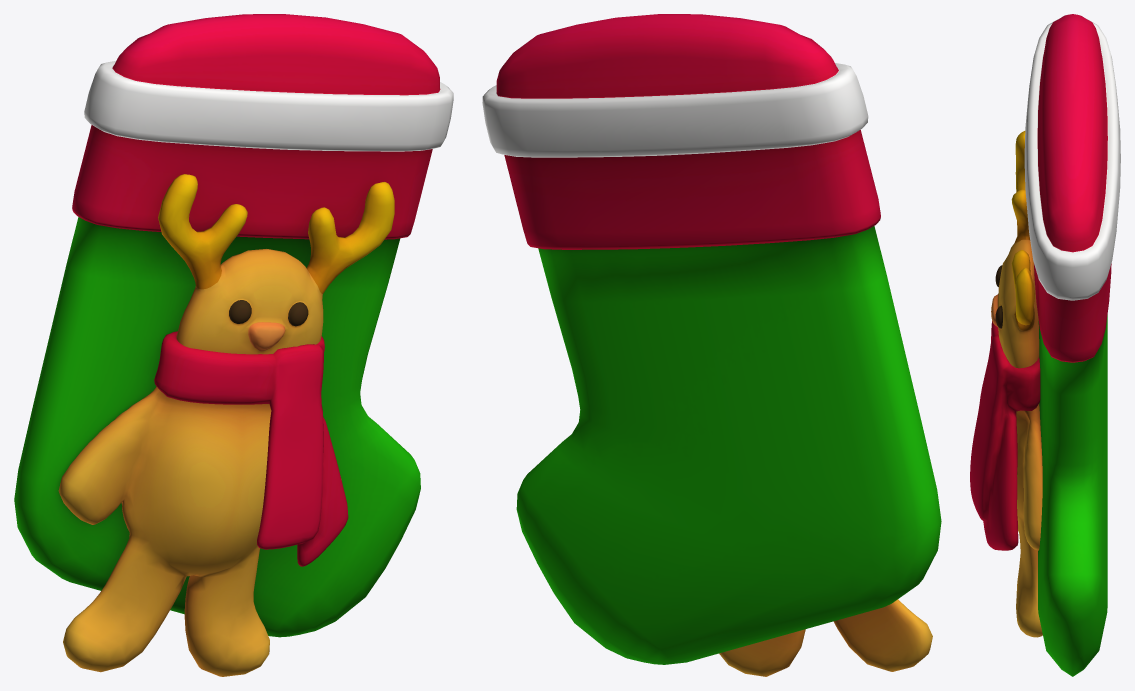
Rendered from qizi_05.FBX.
3 renders of one model, left to right at view 1: azimuth 30°, elevation 25°; view 2: azimuth 150°, elevation 25°; view 3: azimuth 270°, elevation 25°, orthographic. The views are drawn at different scales.
Visible parts, largest first — view 1: qizi_05; view 2: qizi_05; view 3: qizi_05.
Part boxes in pixels (box(x1,y1,x2,y2)): qizi_05: box(14, 14, 453, 676); qizi_05: box(482, 14, 941, 676); qizi_05: box(970, 14, 1120, 676).
Size of the model in its own units: 74.79 by 107 by 24.71.
1 material, 1 textured.
